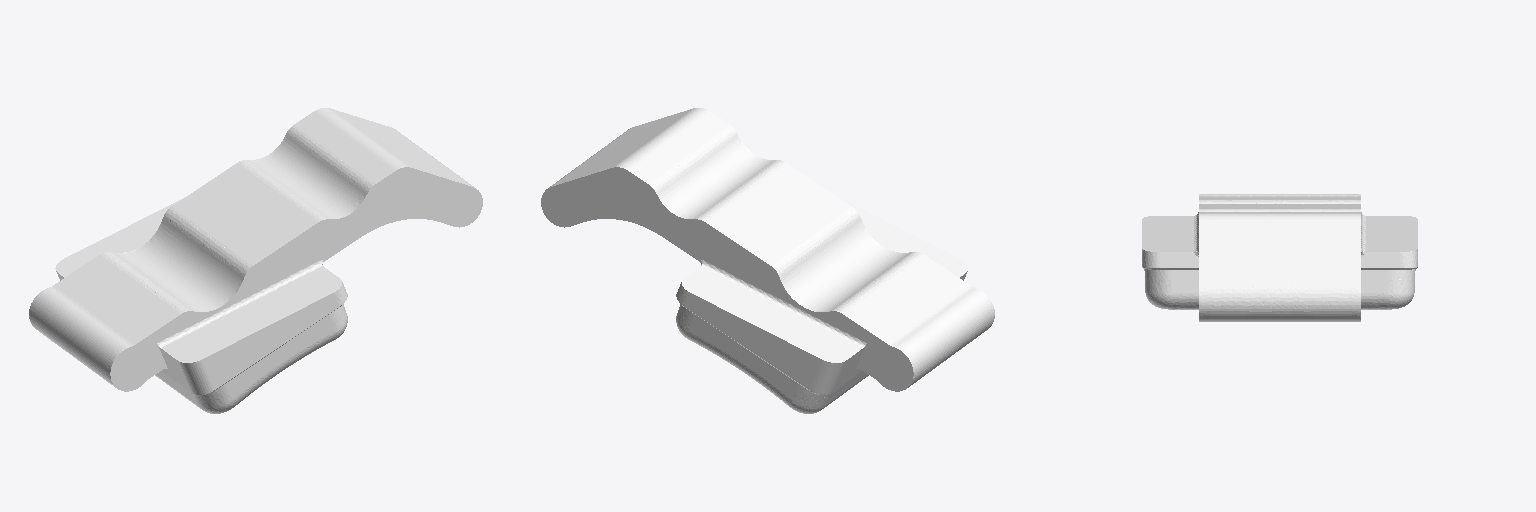
File: float_H_UV_100430.obj
The picture shows the model from 3 angles: view 1: azimuth 30°, elevation 25°; view 2: azimuth 150°, elevation 25°; view 3: azimuth 270°, elevation 25°; orthographic projection.
Size of the model in its own units: 0.4842 by 0.2288 by 0.31.